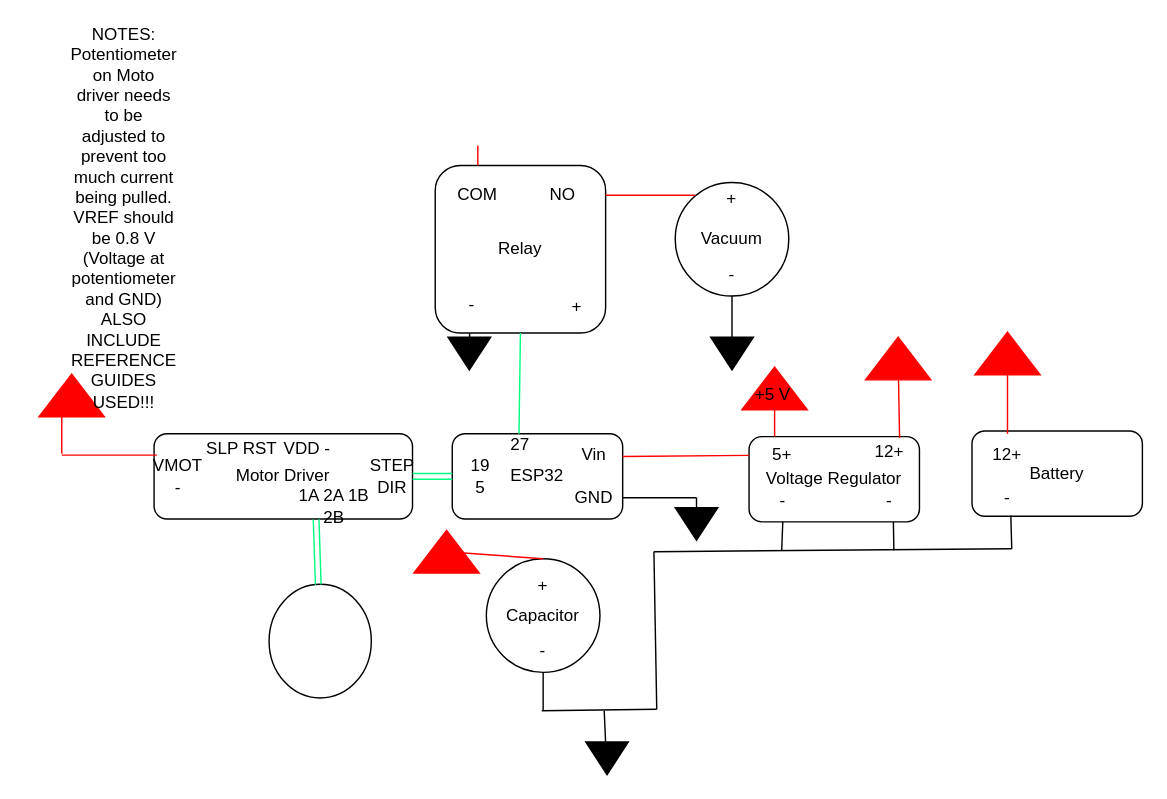
This 1167x799 diagram has some shape labels left out. The shapes that lost their labels are listed below. From the top down, each one's centre as x and y in pixels, then its label:
the point at 71,395: +12 V
the point at 319,640: Motor
